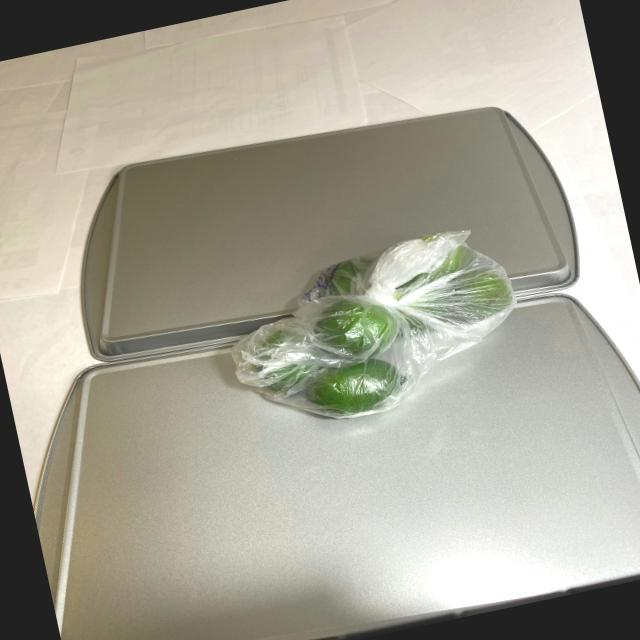lemon: (210, 225, 530, 432)
